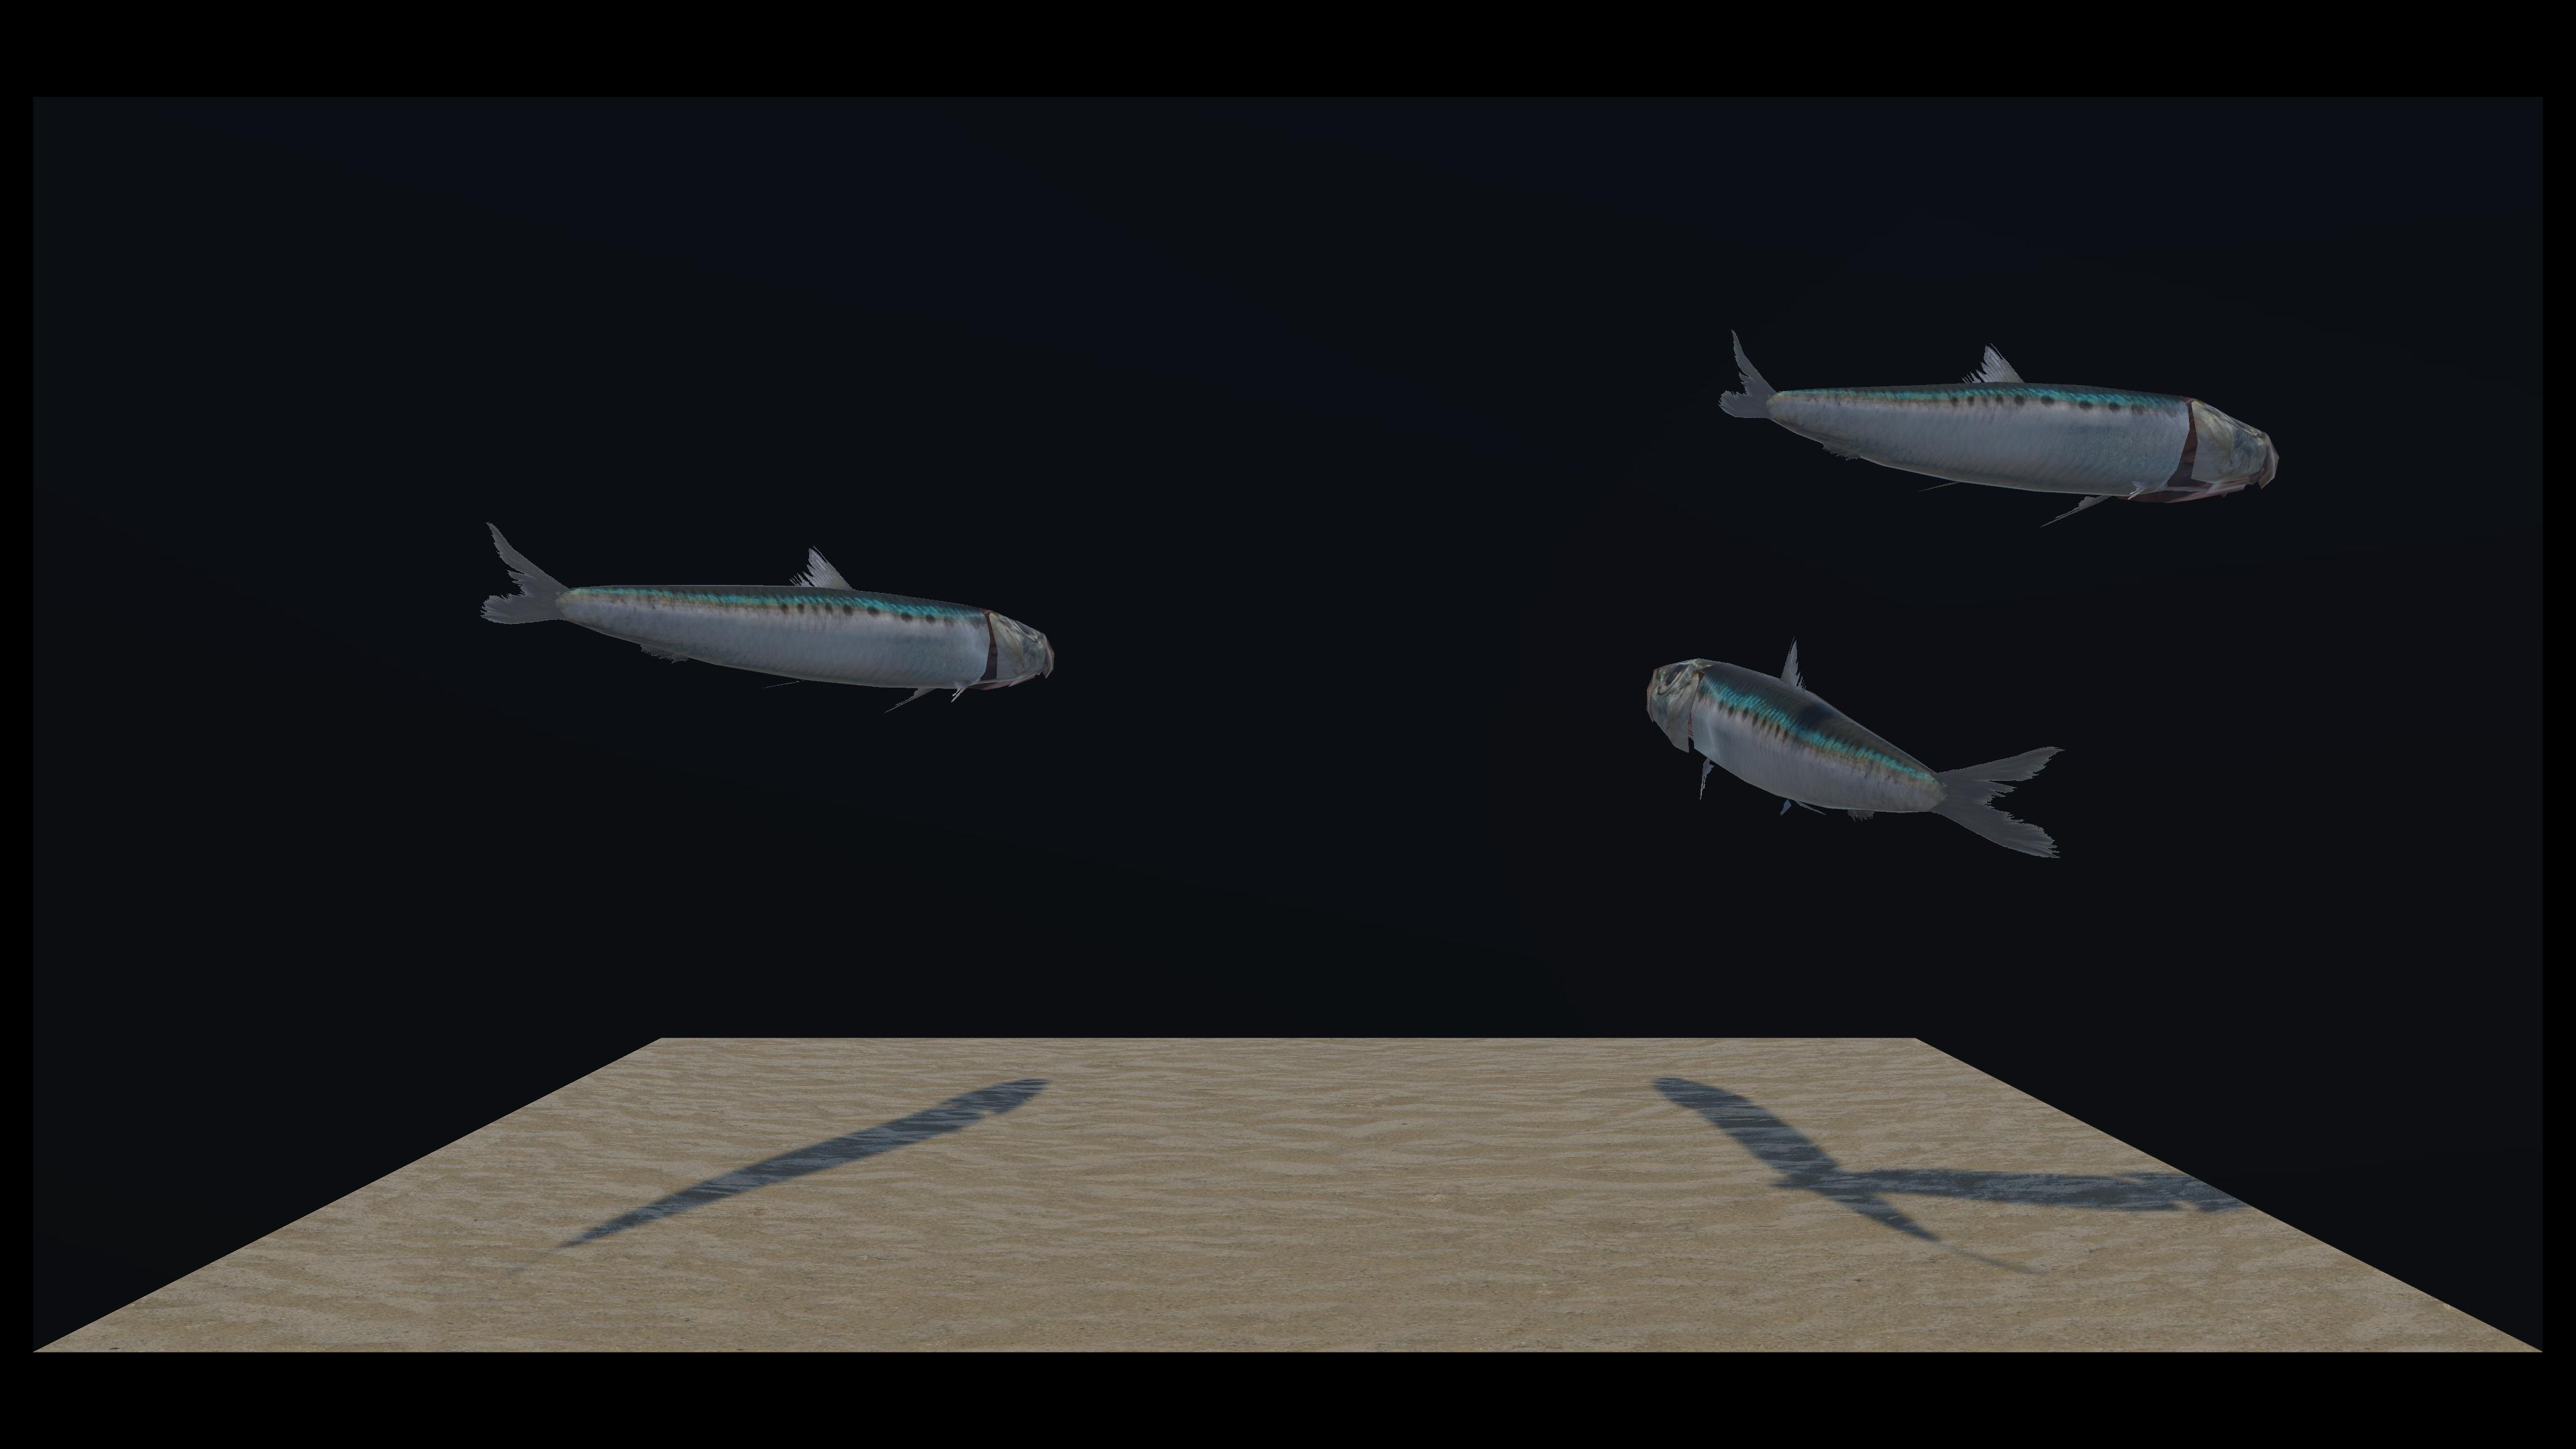Sardine_Front: (625, 525, 2045, 856), (832, 329, 2252, 536), (488, 308, 1035, 722)
